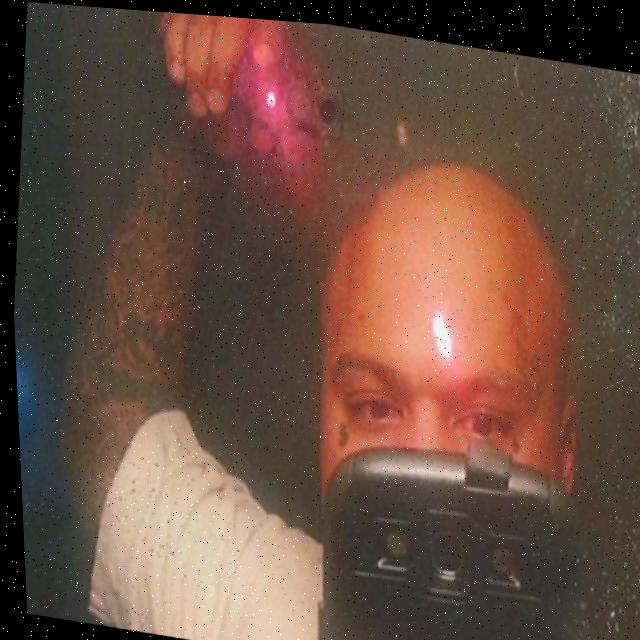pistol: (224, 54, 356, 149)
